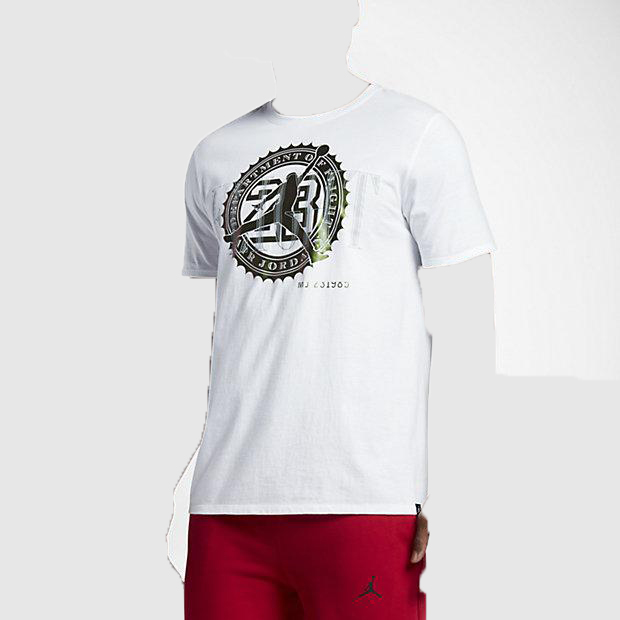teeshirt: (165, 79, 501, 548)
